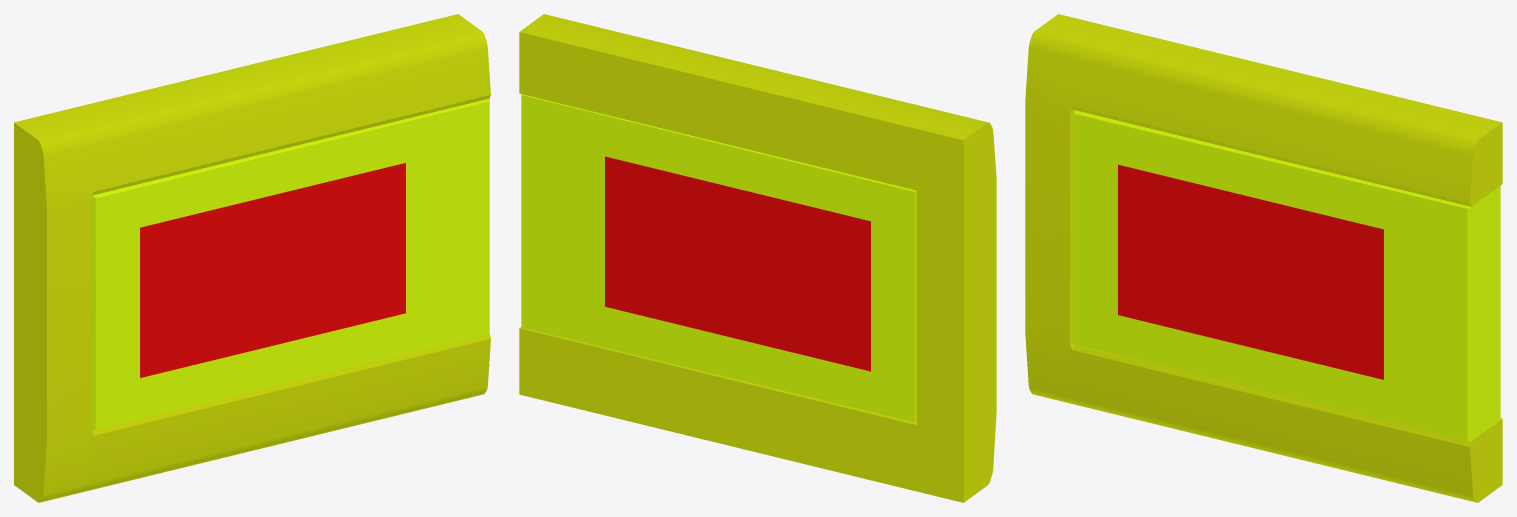
Rendered from SM_MicrowaveDoor01.glb.
3 renders of one model, left to right at view 1: azimuth 30°, elevation 25°; view 2: azimuth 150°, elevation 25°; view 3: azimuth 330°, elevation 25°, orthographic.
Visible parts, largest first — view 1: SM_MicrowaveDoor01; view 2: SM_MicrowaveDoor01; view 3: SM_MicrowaveDoor01.
Boxes of the visible parts, <box> form: SM_MicrowaveDoor01: <box>14,14,490,502</box>; SM_MicrowaveDoor01: <box>519,14,996,502</box>; SM_MicrowaveDoor01: <box>1025,14,1502,502</box>.
Size of what is drawn, in the model's own units: 0.5162 by 0.4025 by 0.0668.
1 material, 1 textured.
